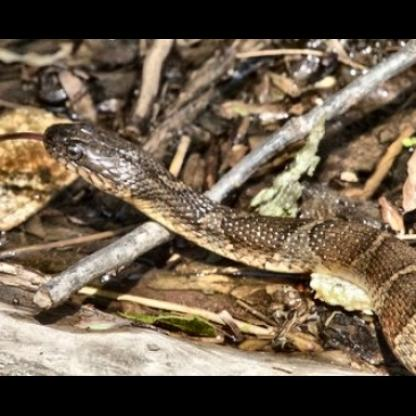Snake: (7, 102, 413, 369)
